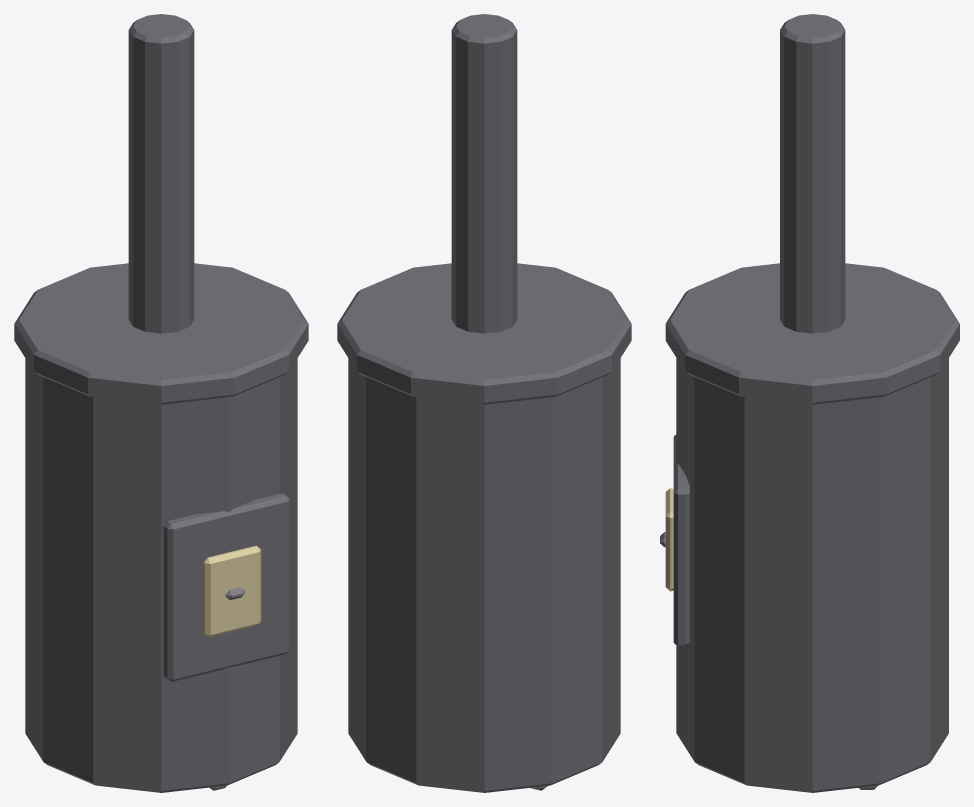
File: SM_Wood_Stove.fbx
3 renders of one model, left to right at view 1: azimuth 30°, elevation 25°; view 2: azimuth 150°, elevation 25°; view 3: azimuth 270°, elevation 25°, orthographic.
Parts seen in each view (by area): view 1: Wood_Stove; view 2: Wood_Stove; view 3: Wood_Stove.
Boxes of the visible parts, left/top/right/bottom form: Wood_Stove: left=14, top=14, right=308, bottom=792; Wood_Stove: left=337, top=14, right=631, bottom=792; Wood_Stove: left=660, top=14, right=959, bottom=792.
Size of the model in its own units: 54 by 146 by 55.
